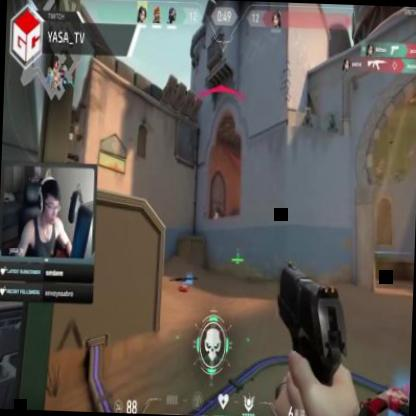enemy: (213, 212, 220, 233)
enemy_head: (215, 212, 219, 219)
